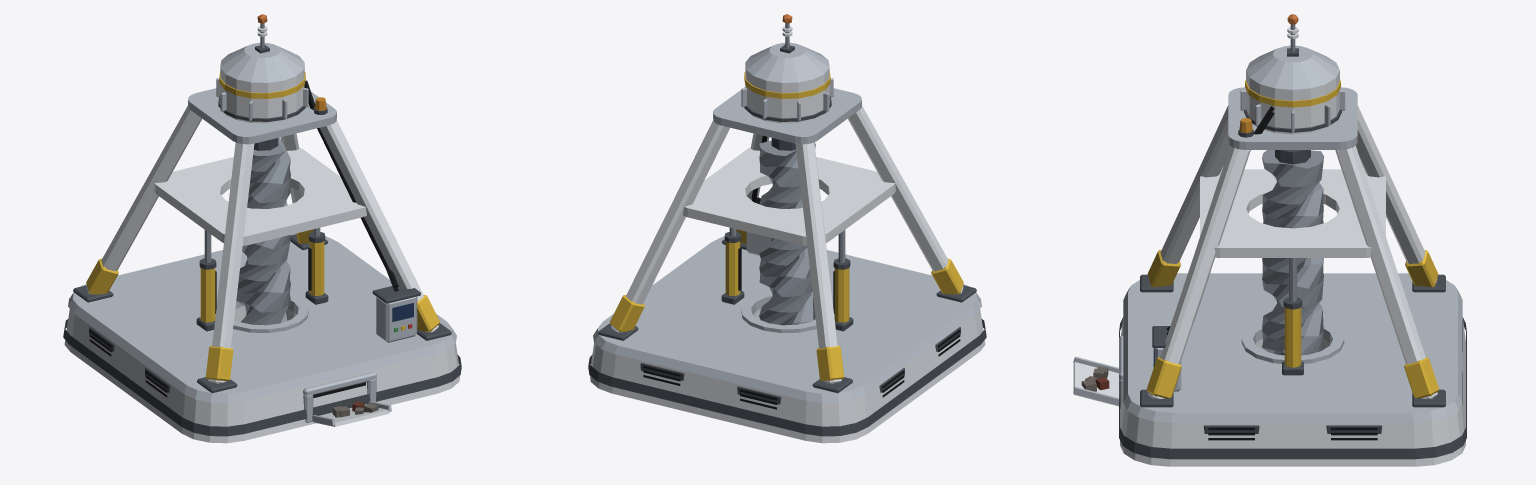
The model's file is foreuse_eco_t3.glb.
The picture shows the model from 3 angles, left to right: view 1: azimuth 30°, elevation 25°; view 2: azimuth 150°, elevation 25°; view 3: azimuth 270°, elevation 25°; orthographic projection. The views are drawn at different scales.
Visible parts, largest first — view 1: socle_dessus.004, pieces_blanc.006, socle.004, collier.004, foret_corps.006, socle_bande.002, pieces_jaune.004, plateau.004, capsule.002, capsule_dome.002, pieces_acier_sombre.008, pieces_gris_clair.002 (+5 smaller); view 2: socle_dessus.004, pieces_blanc.006, socle.004, collier.004, foret_corps.006, socle_bande.002, pieces_jaune.004, plateau.004, pieces_acier_sombre.008, capsule.002, capsule_dome.002, pieces_noir.008 (+3 smaller); view 3: socle_dessus.004, pieces_blanc.006, socle.004, collier.004, foret_corps.006, pieces_jaune.004, socle_bande.002, plateau.004, capsule_dome.002, capsule.002, pieces_acier_sombre.008, pieces_gris_clair.002 (+3 smaller).
Part boxes in pixels (<box>): socle_dessus.004: <box>68,233,456,403</box>; pieces_blanc.006: <box>86,26,438,426</box>; socle.004: <box>64,306,460,443</box>; collier.004: <box>154,147,366,245</box>; foret_corps.006: <box>236,137,290,325</box>; socle_bande.002: <box>63,319,461,436</box>; pieces_jaune.004: <box>86,229,439,380</box>; plateau.004: <box>188,88,336,144</box>; capsule.002: <box>220,65,304,123</box>; capsule_dome.002: <box>220,42,304,82</box>; pieces_acier_sombre.008: <box>73,45,451,393</box>; pieces_gris_clair.002: <box>216,78,391,425</box>; socle_dessus.004: <box>593,236,981,403</box>; pieces_blanc.006: <box>611,26,963,383</box>; socle.004: <box>589,309,985,443</box>; collier.004: <box>683,147,895,245</box>; foret_corps.006: <box>759,140,815,325</box>; socle_bande.002: <box>588,319,986,436</box>; pieces_jaune.004: <box>610,229,963,380</box>; plateau.004: <box>713,87,861,144</box>; pieces_acier_sombre.008: <box>598,45,976,404</box>; capsule.002: <box>745,65,829,123</box>; capsule_dome.002: <box>745,42,829,82</box>; pieces_noir.008: <box>643,136,960,409</box>; socle_dessus.004: <box>1123,273,1462,422</box>; pieces_blanc.006: <box>1073,27,1437,406</box>; socle.004: <box>1120,318,1465,466</box>; collier.004: <box>1200,169,1385,257</box>; foret_corps.006: <box>1262,150,1323,355</box>; pieces_jaune.004: <box>1146,250,1439,398</box>; socle_bande.002: <box>1119,317,1466,459</box>; plateau.004: <box>1228,87,1357,149</box>; capsule_dome.002: <box>1246,45,1339,89</box>; capsule.002: <box>1246,70,1339,134</box>; pieces_acier_sombre.008: <box>1140,48,1445,433</box>; pieces_gris_clair.002: <box>1073,90,1345,408</box>.
Size of the model in its own units: 2 by 2.29 by 2.5.
